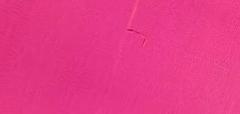snag: (125, 23, 152, 48)
